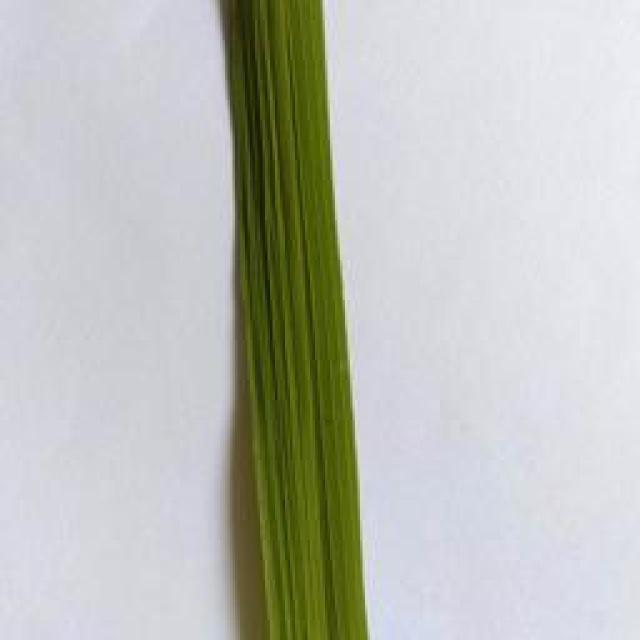Healthy-Plant: (235, 0, 368, 640)
